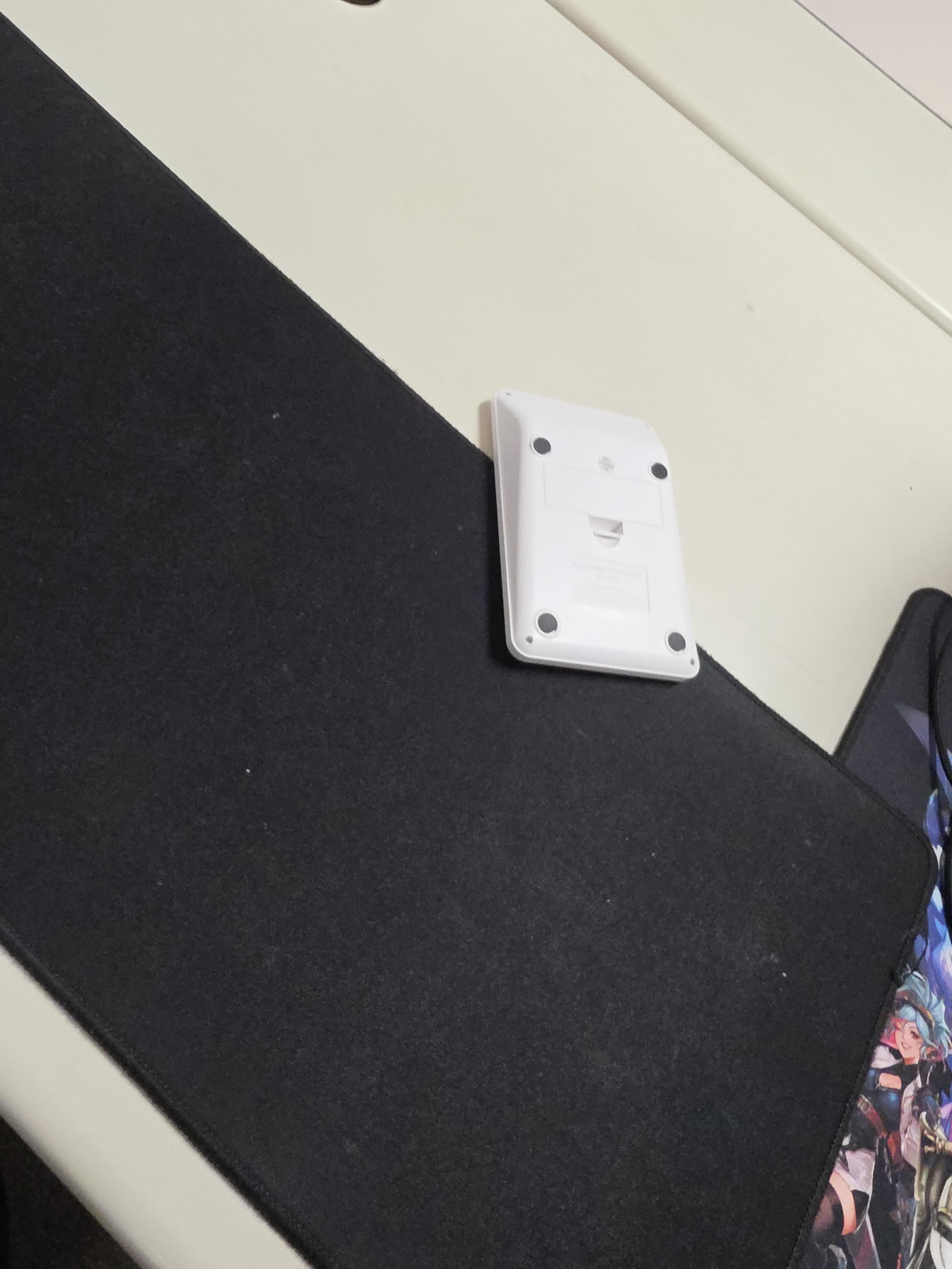calculator: (490, 389, 699, 683)
